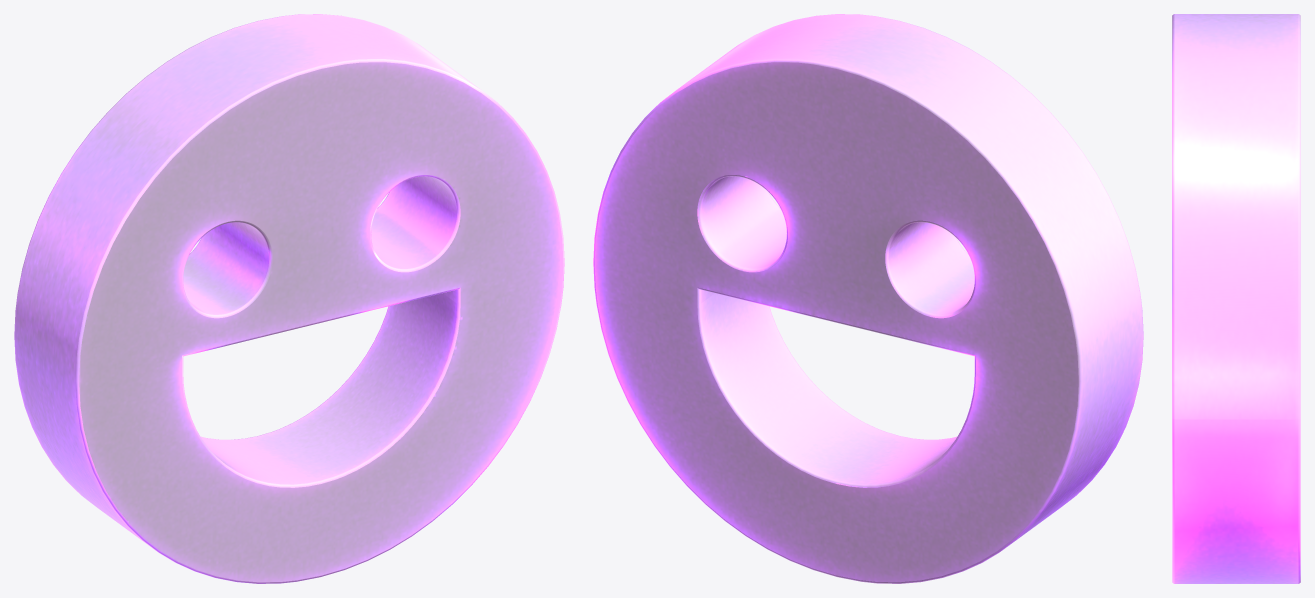
The model's file is WEB_PINKFACE_BAKED_2.glb.
3 renders of one model, left to right at view 1: azimuth 30°, elevation 25°; view 2: azimuth 150°, elevation 25°; view 3: azimuth 270°, elevation 25°, orthographic.
Visible parts, largest first — view 1: Fill; view 2: Fill; view 3: Fill.
Part boxes in pixels (x1,y1,x2,y2): Fill: (14, 14, 564, 583); Fill: (593, 14, 1143, 583); Fill: (1172, 14, 1300, 583).
Bounding box in the file's own units: 1.03 × 1.03 × 0.2323.
